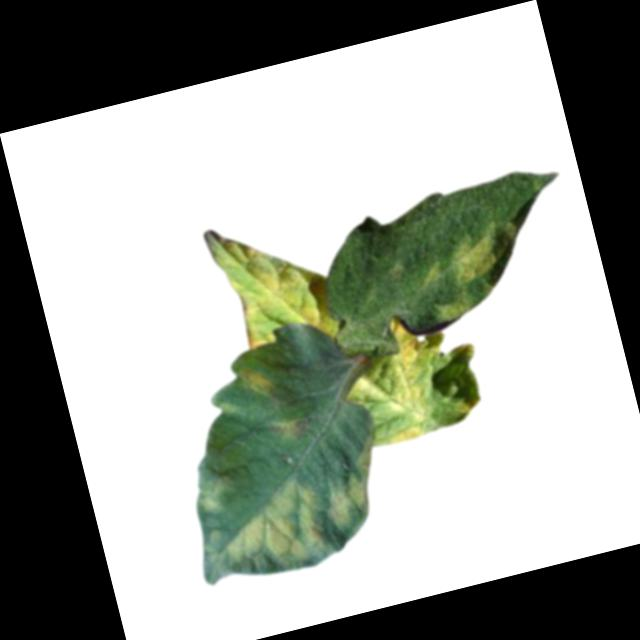Leaf_Mold: (194, 462, 378, 584), (203, 203, 343, 354), (329, 308, 450, 436), (443, 212, 526, 286), (192, 461, 239, 516), (430, 287, 481, 325), (239, 358, 279, 399), (269, 409, 314, 445), (387, 421, 428, 445)
